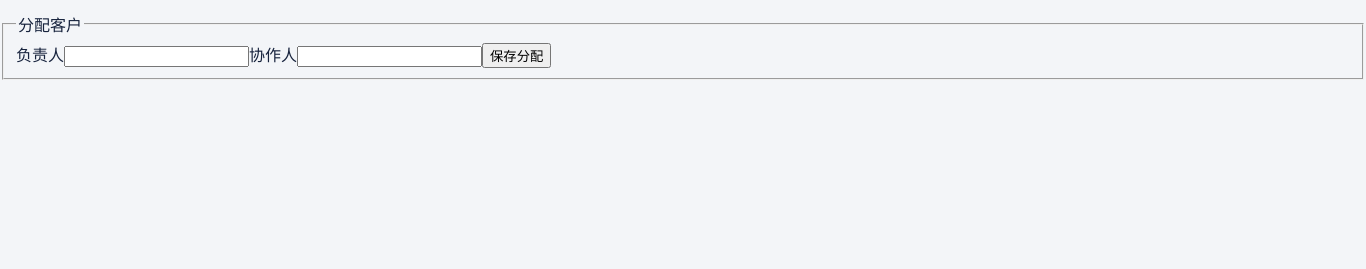
AssignmentEditor › renders pending save through PageState loading
Step 1. Click the button "保存分配" → (517, 55), box [482,43,551,68]
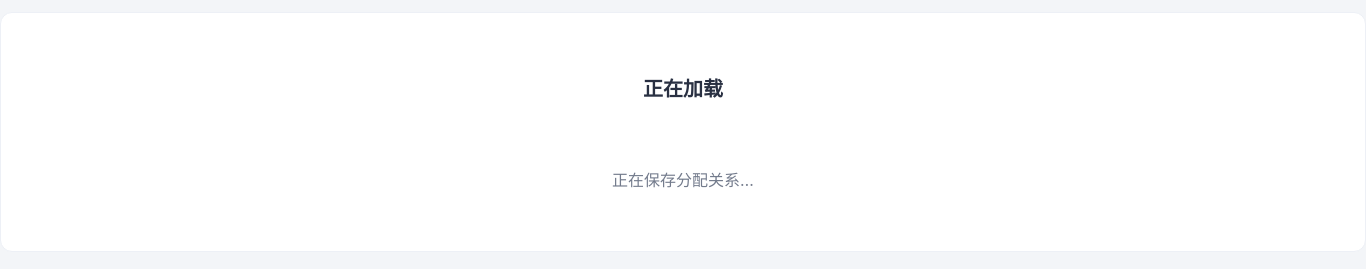
Check: the message "正在加载 正在保存分配关系…" is shown
